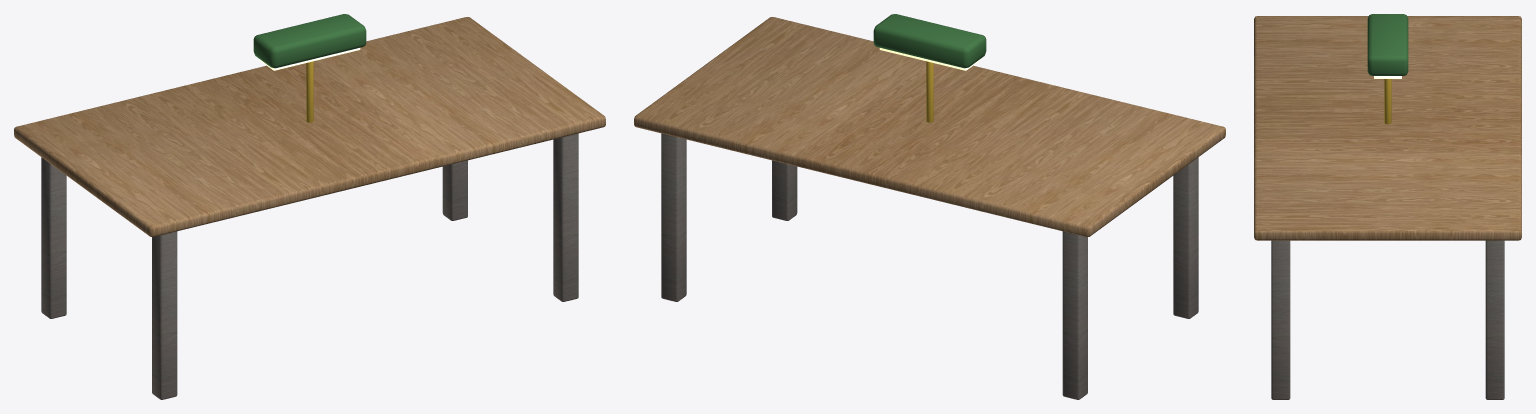
File: library-table-db3f6e4d97c1.glb
The picture shows the model from 3 angles, left to right: view 1: azimuth 30°, elevation 25°; view 2: azimuth 150°, elevation 25°; view 3: azimuth 270°, elevation 25°; orthographic projection. The views are drawn at different scales.
Parts seen in each view (by area): view 1: Tabletop, Mesh_Lectern_Walnut, Banker_Shade; view 2: Tabletop, Mesh_Lectern_Walnut, Banker_Shade; view 3: Tabletop, Mesh_Lectern_Walnut, Banker_Shade, Lamp_Stem.
Boxes of the visible parts, bbox=[...] form: Tabletop: bbox=[14, 17, 605, 237]; Mesh_Lectern_Walnut: bbox=[41, 133, 578, 399]; Banker_Shade: bbox=[253, 14, 366, 68]; Tabletop: bbox=[634, 17, 1225, 237]; Mesh_Lectern_Walnut: bbox=[661, 133, 1198, 399]; Banker_Shade: bbox=[873, 14, 986, 68]; Tabletop: bbox=[1254, 16, 1521, 240]; Mesh_Lectern_Walnut: bbox=[1271, 240, 1504, 399]; Banker_Shade: bbox=[1367, 14, 1408, 75]; Lamp_Stem: bbox=[1384, 79, 1391, 124].
Bounding box in the file's own units: 2 × 1.16 × 1.05.
5 materials, 2 textured.
